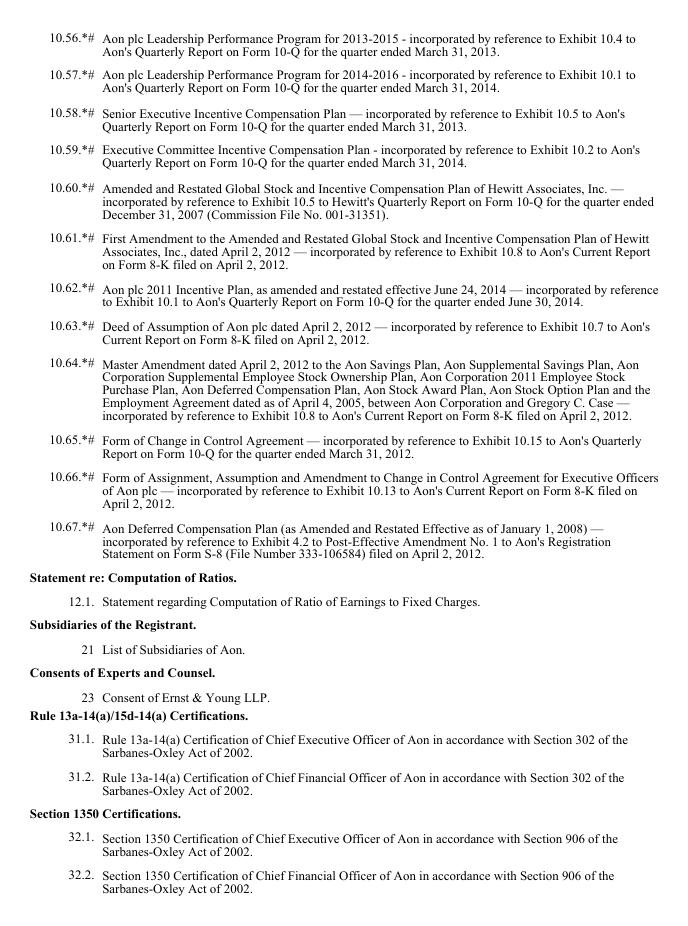table: (28, 29, 657, 894)
table column: (97, 29, 657, 894), (28, 29, 97, 894)
table projected row header: (28, 564, 657, 588), (28, 612, 657, 636), (28, 660, 657, 684), (28, 801, 657, 824), (28, 705, 657, 726)
table row: (28, 350, 657, 426), (28, 173, 657, 224), (28, 224, 657, 275), (28, 463, 657, 514), (28, 514, 657, 564), (28, 99, 657, 137), (28, 312, 657, 350), (28, 763, 657, 801), (28, 62, 657, 99), (28, 275, 657, 312), (28, 426, 657, 463), (28, 726, 657, 763), (28, 824, 657, 861), (28, 137, 657, 173), (28, 29, 657, 62), (28, 861, 657, 894), (28, 564, 657, 588), (28, 588, 657, 612), (28, 612, 657, 636), (28, 636, 657, 660), (28, 660, 657, 684), (28, 801, 657, 824), (28, 684, 657, 705), (28, 705, 657, 726)
